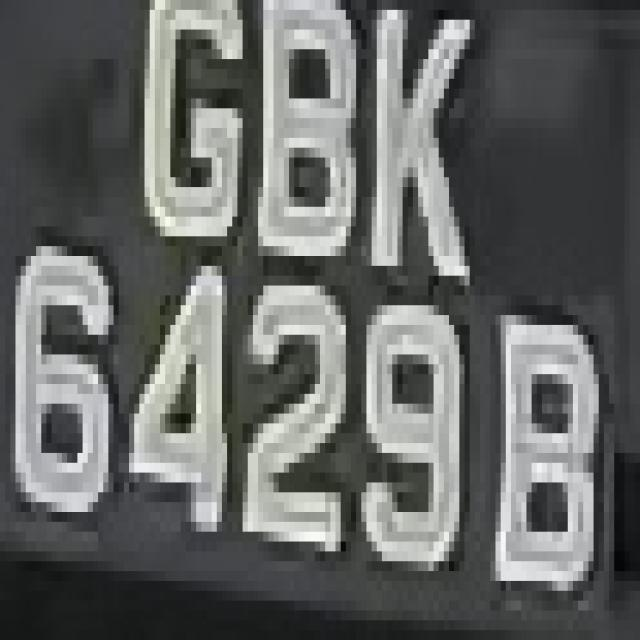2: (243, 226, 361, 562)
4: (119, 226, 232, 552)
6: (0, 197, 124, 561)
9: (356, 266, 475, 581)
B: (480, 276, 619, 610), (238, 0, 366, 305)
G: (129, 19, 253, 286)
K: (356, 29, 485, 286)
